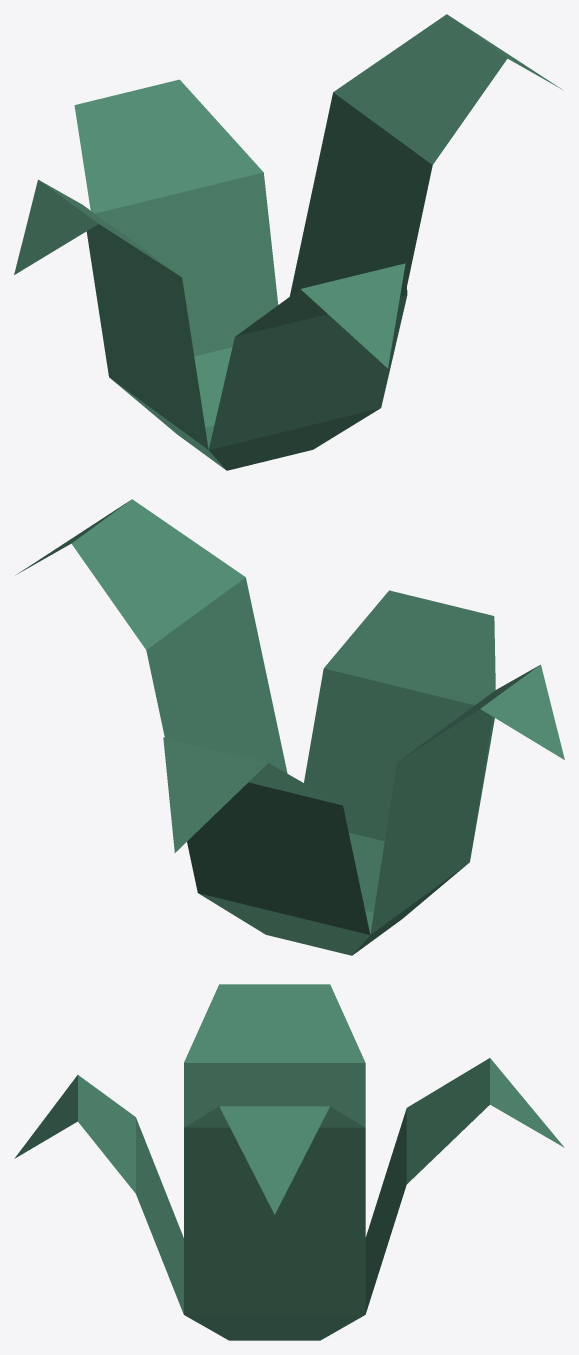
The model's file is naturePack_flat_003.fbx.
The picture shows the model from 3 angles, top to bottom: view 1: azimuth 30°, elevation 25°; view 2: azimuth 150°, elevation 25°; view 3: azimuth 270°, elevation 25°; orthographic projection. The views are drawn at different scales.
Visible parts, largest first — view 1: Mesh1_Plant_3 Model; view 2: Mesh1_Plant_3 Model; view 3: Mesh1_Plant_3 Model.
Boxes of the visible parts, x1=… form: Mesh1_Plant_3 Model: x1=14, y1=14, x2=563, y2=470; Mesh1_Plant_3 Model: x1=15, y1=499, x2=564, y2=955; Mesh1_Plant_3 Model: x1=14, y1=984, x2=564, y2=1340.
Size of the model in its own units: 1.15 by 0.6961 by 1.09.
